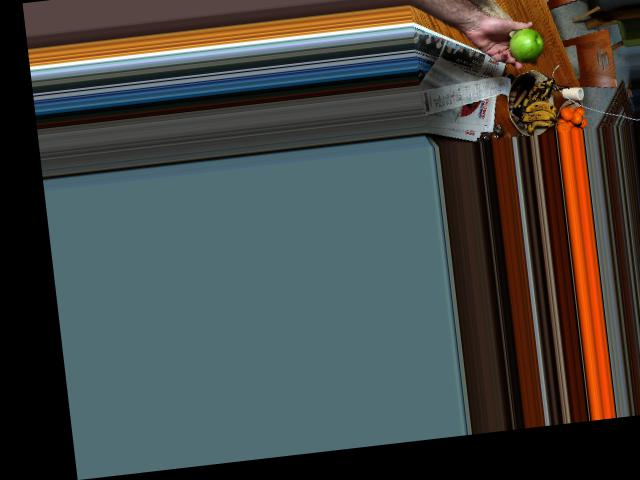apple: (506, 28, 544, 61)
